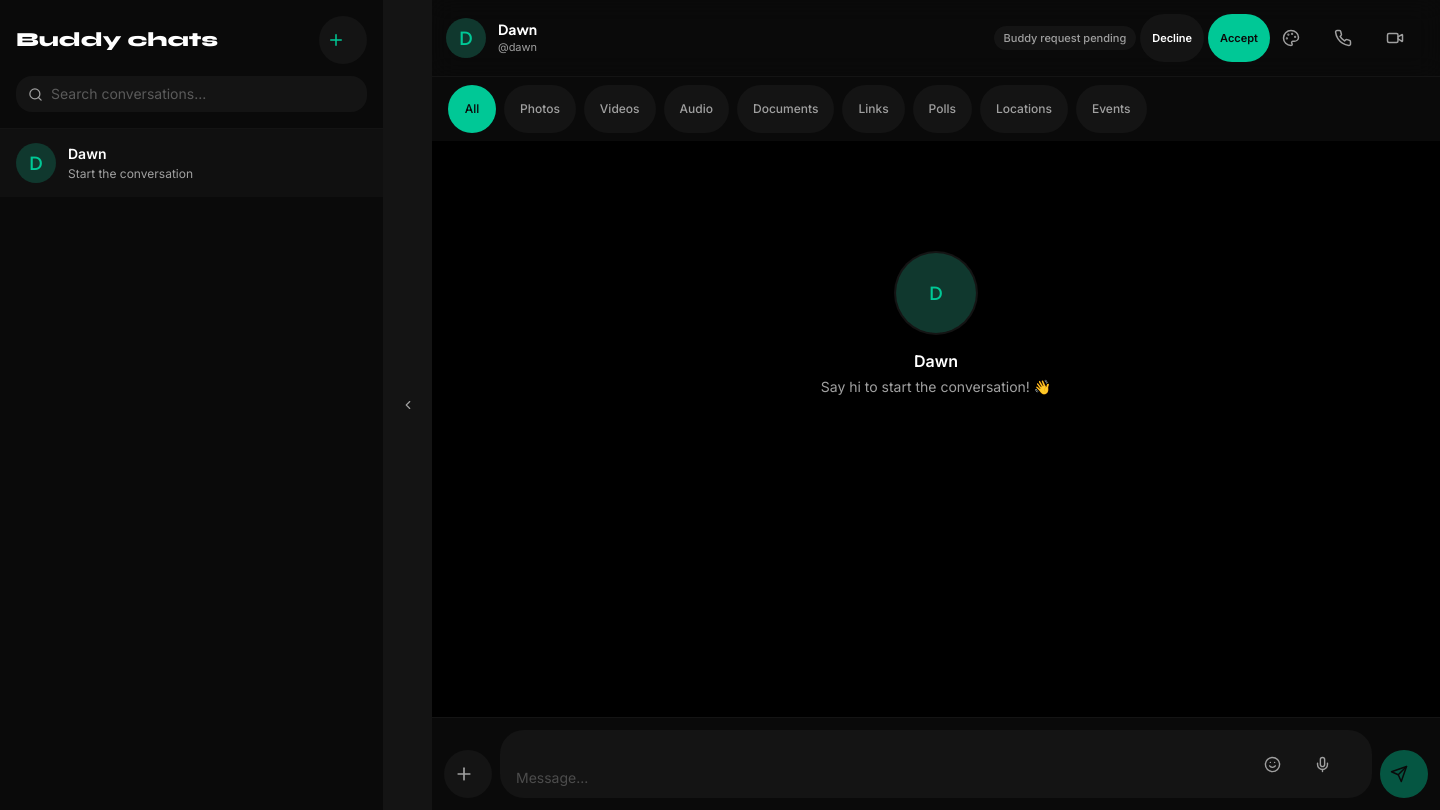
Test: Messages — answering an incoming buddy request › confirms, then accepts the request and re-reads the conversation
The image size is (1440, 810).
Step 1. Click the button "Accept" → point(1239, 38), box [1208,14,1270,62]
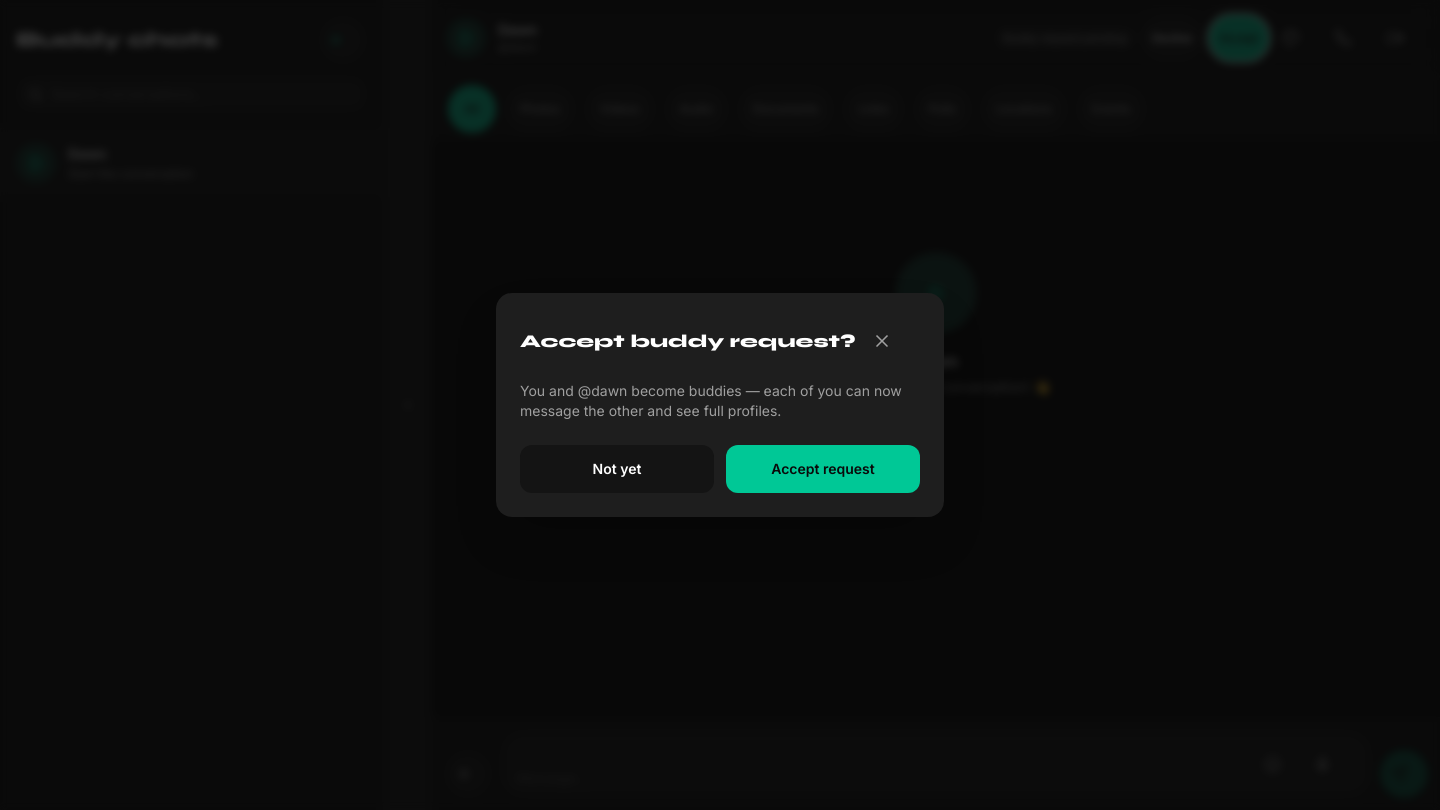
Check: the heading "Accept buddy request?" is shown, box [520,327,856,355]
Step 2. Click the button "Accept request" → point(823, 469), box [726,445,920,493]
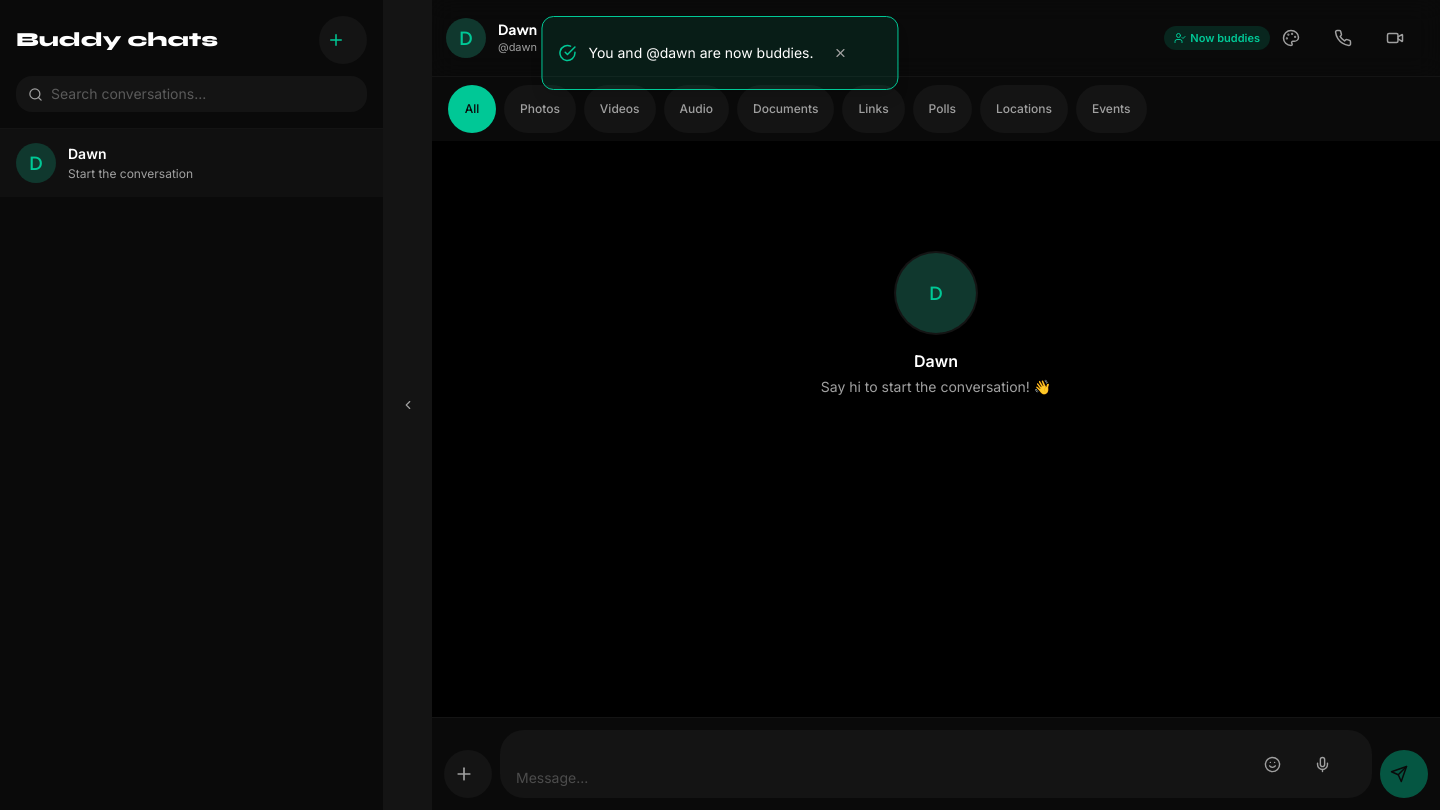
Check: the text "Now buddies" is shown, box [1164,26,1270,50]
Check: the button "Accept" is gone
Check: the button "Decline" is gone
